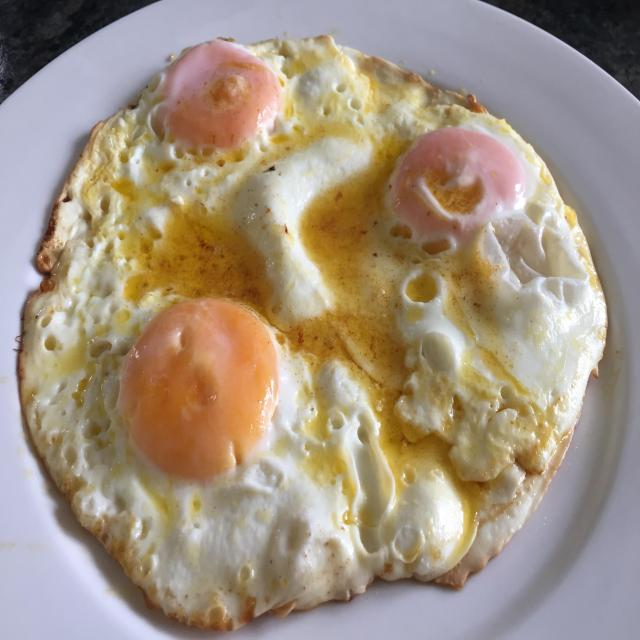Egg: (19, 37, 606, 630)
